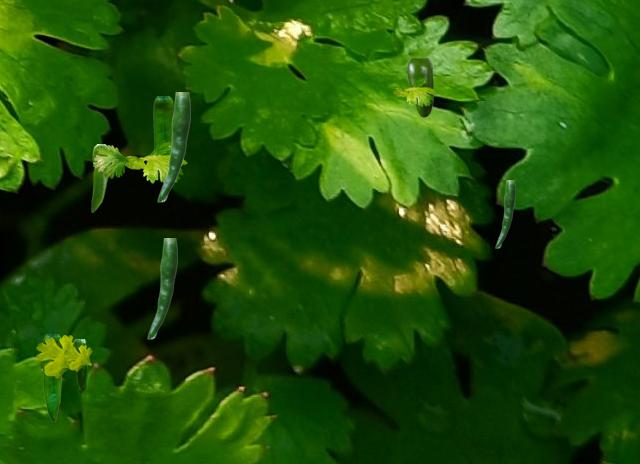green_chili: (157, 92, 189, 201), (147, 238, 176, 338), (153, 96, 172, 182), (42, 334, 61, 420), (407, 58, 432, 116), (495, 180, 514, 247), (91, 144, 108, 211), (73, 339, 86, 392)
